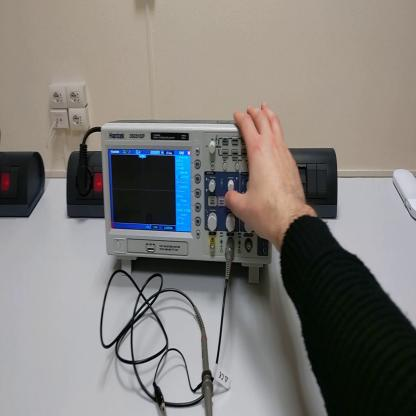hand: (222, 102, 307, 245)
oscilloscope: (104, 120, 275, 286)
oscilloscope probe tip: (196, 311, 214, 416)
socket: (2, 149, 47, 225), (66, 150, 104, 219)
